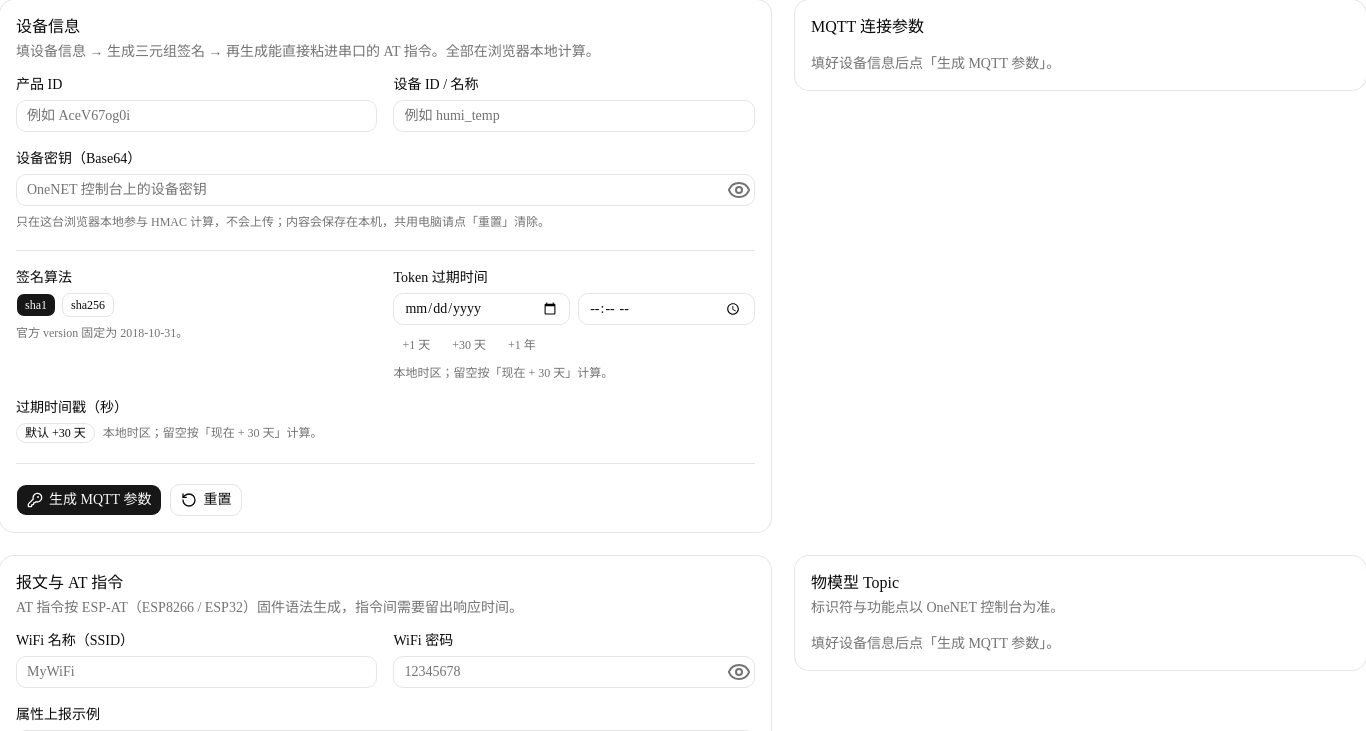
Test case: oneNet · 必填校验 › 缺设备密钥
Type "AceV67og0i" into the field with id "onenet-product" at coordinates (197, 116), box [16,100,378,132]
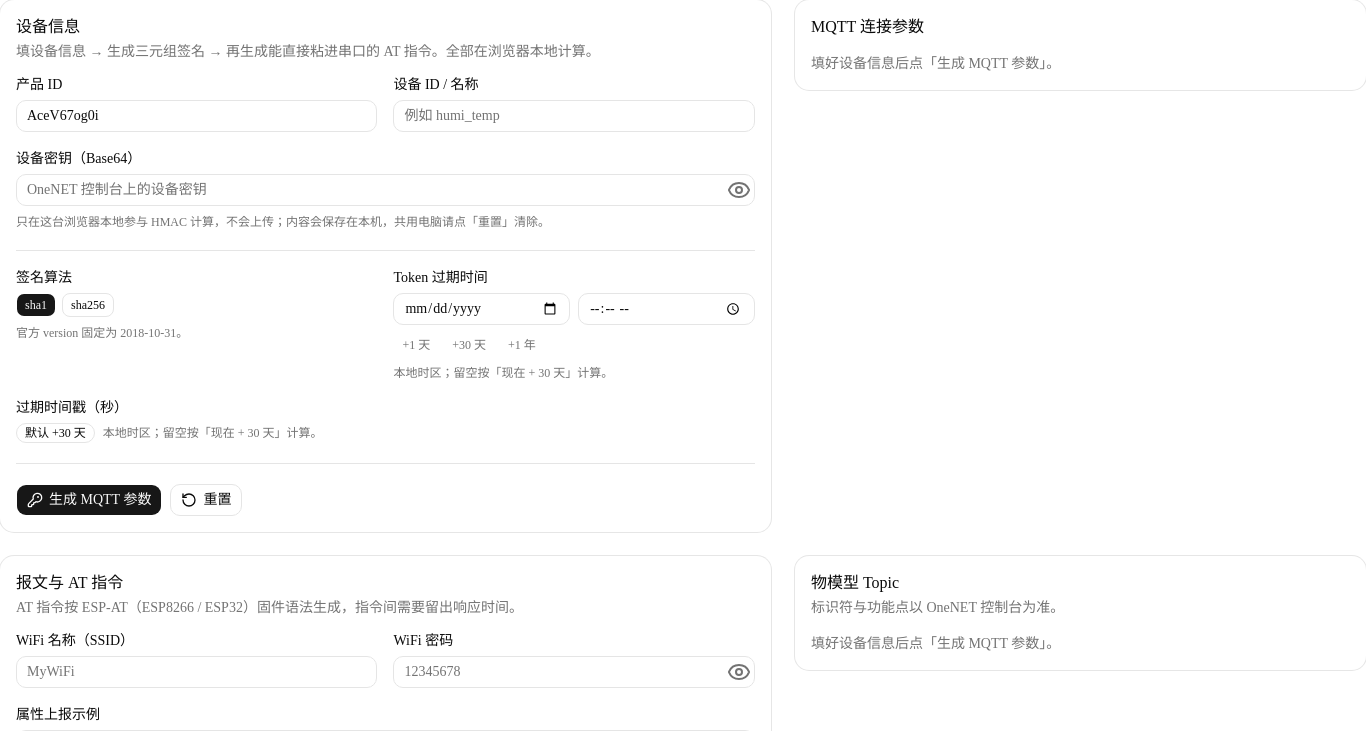
Type "humi_temp" into the field with id "onenet-device" at coordinates (574, 116), box [394,100,755,132]
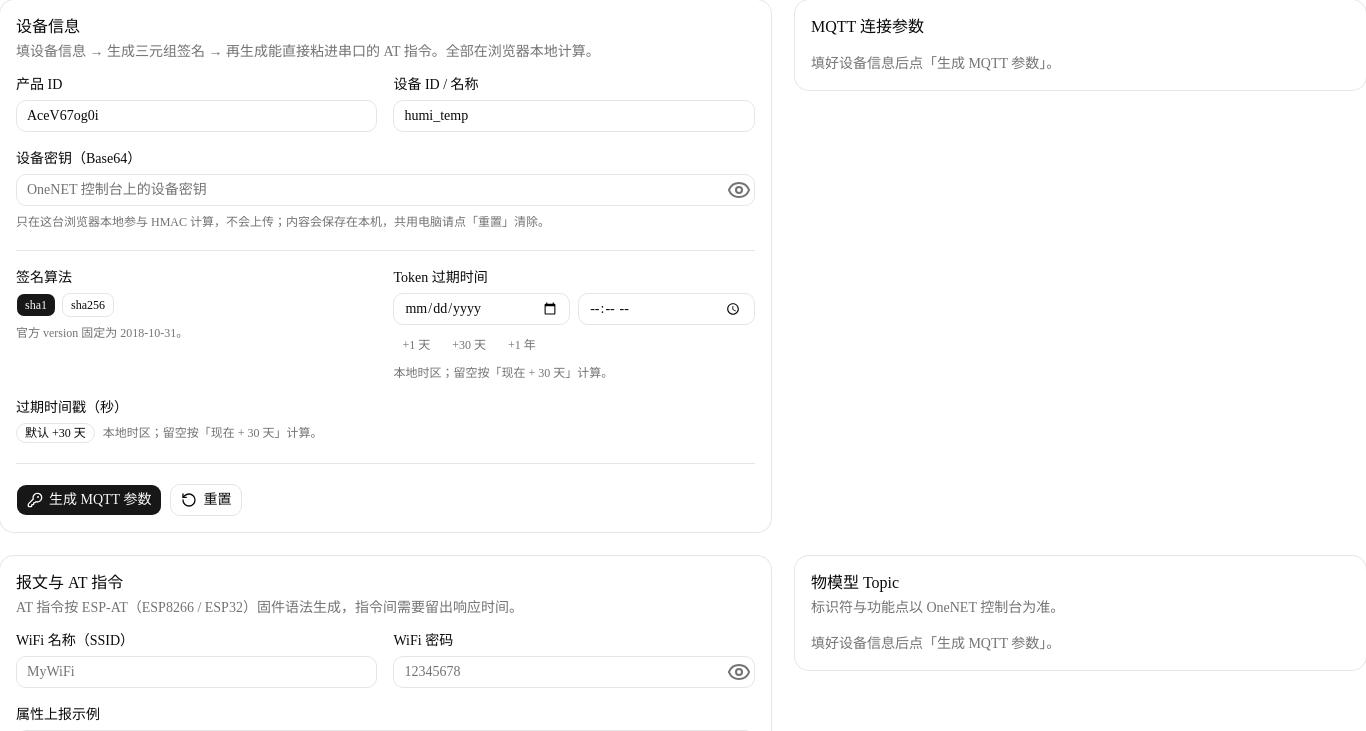
Click the button "生成 MQTT 参数" at coordinates (89, 500), box [16,484,162,516]
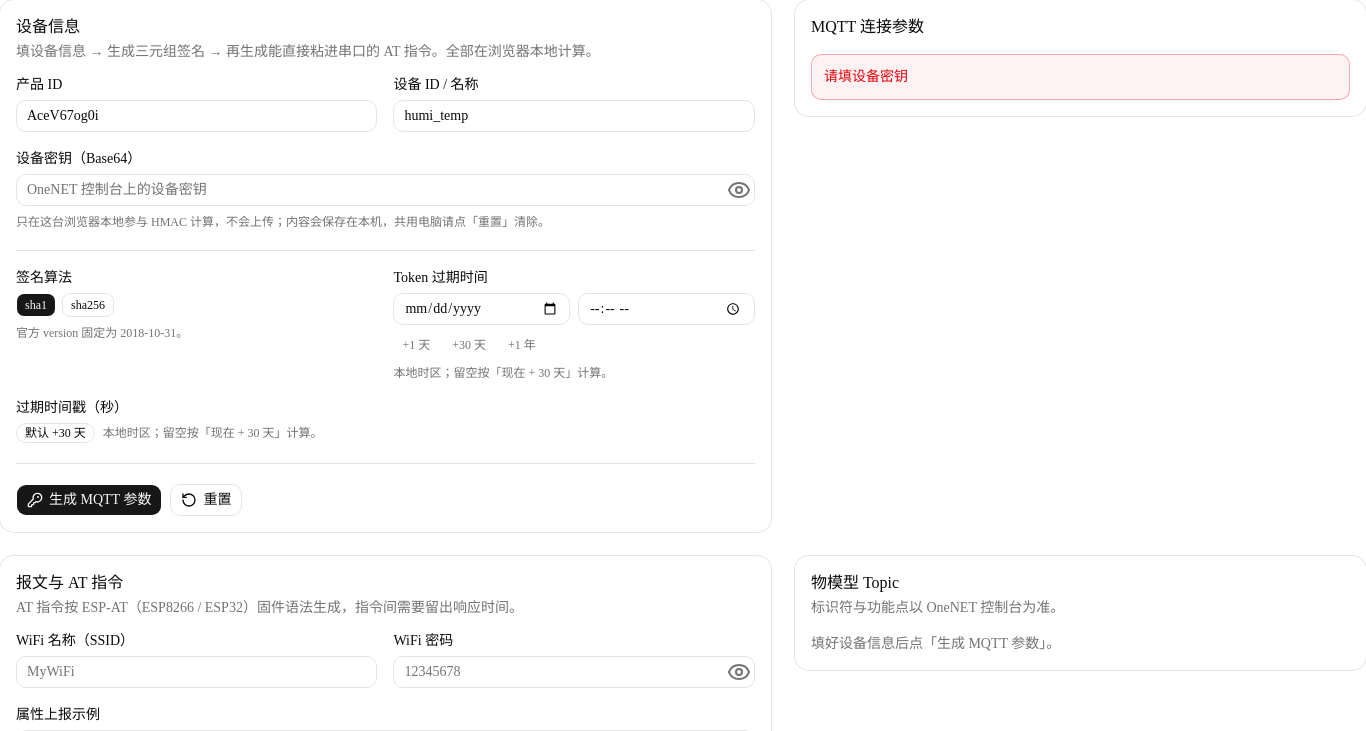
expect the text "请填设备密钥" is shown: met, box [811,54,1350,100]
